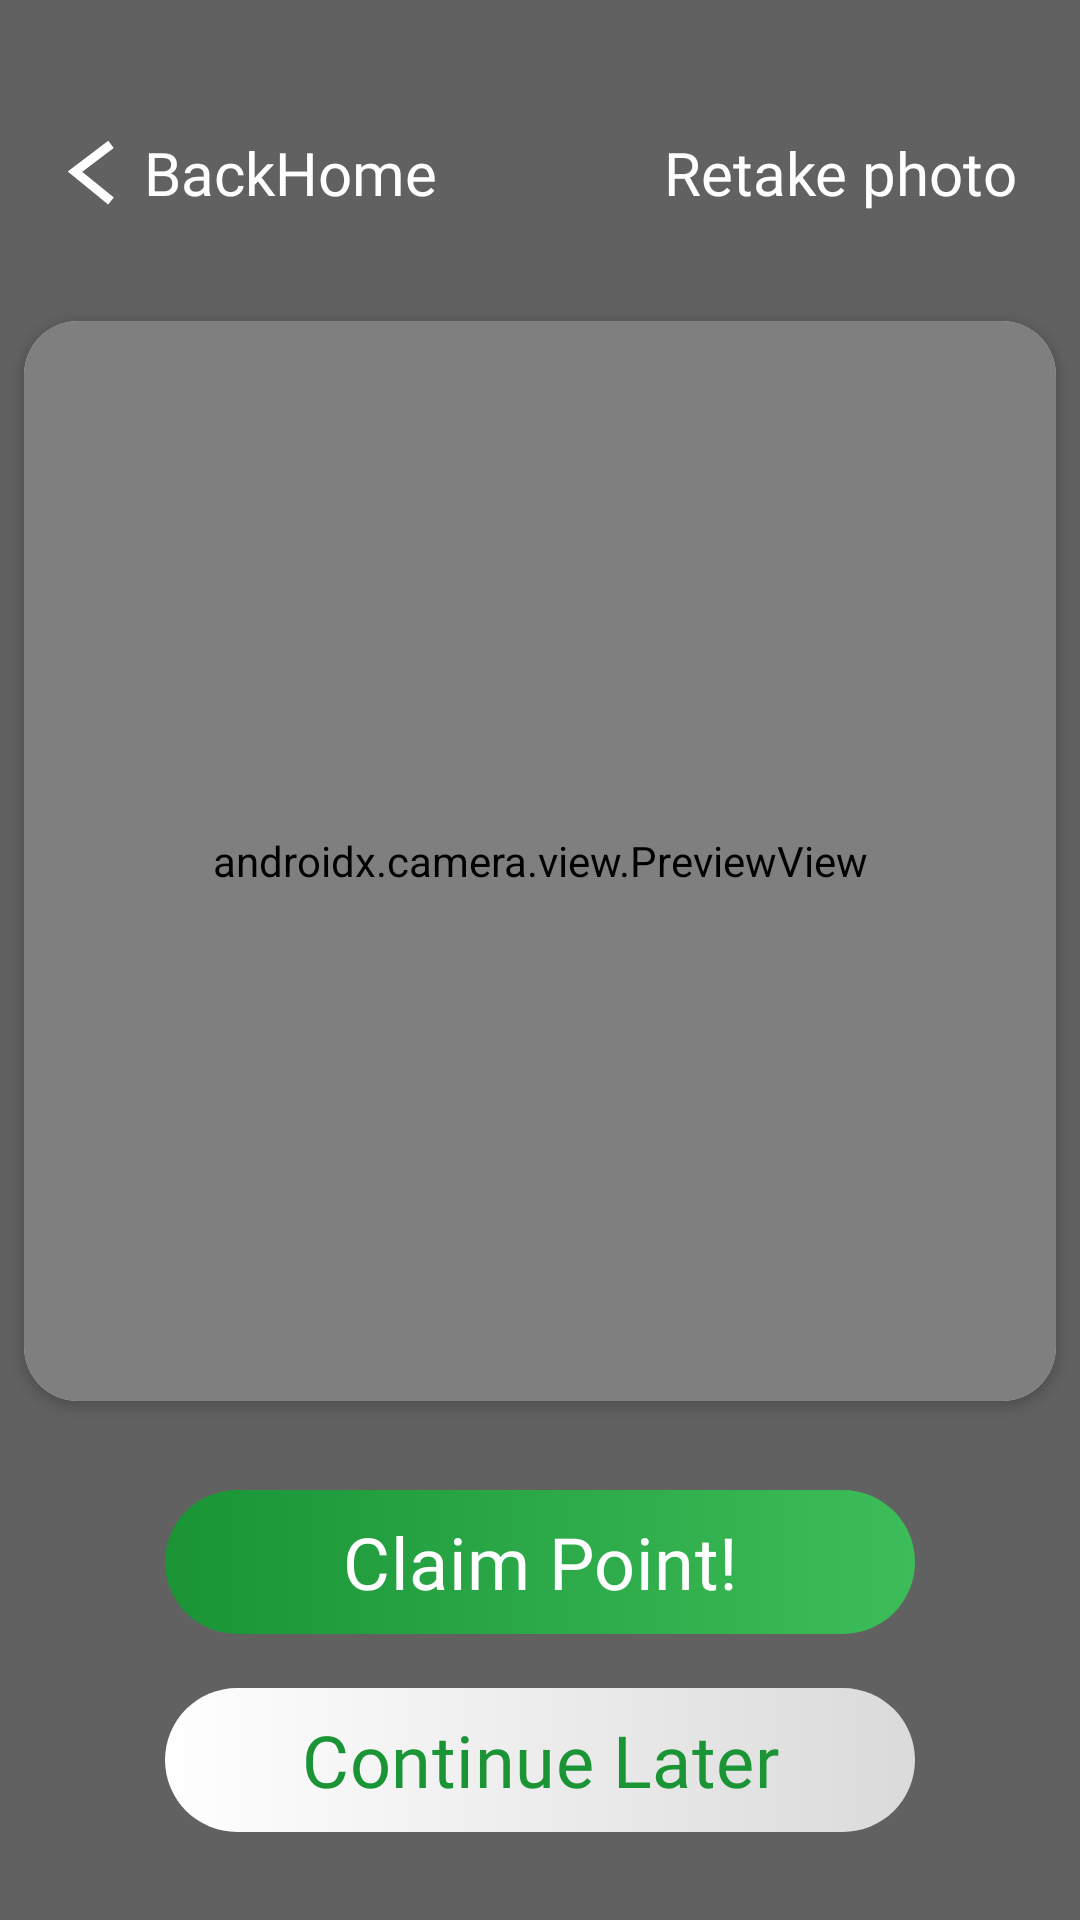

Screen size 1080 x 1920. Icon name, then its center in pixels as point (x, y):
arrow left: point (91, 173)
